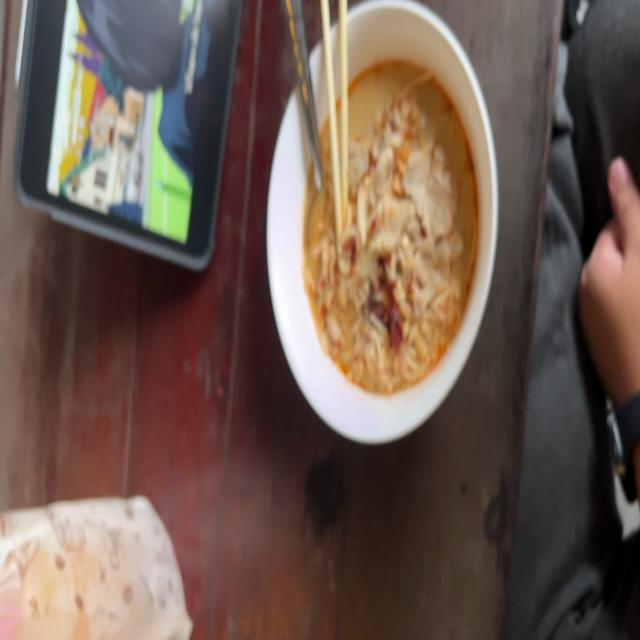noodle: (283, 39, 507, 432)
